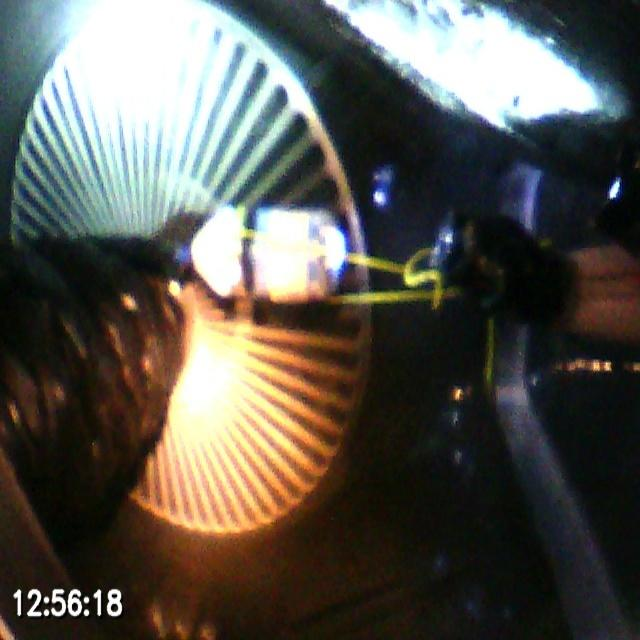head: (191, 206, 346, 304)
